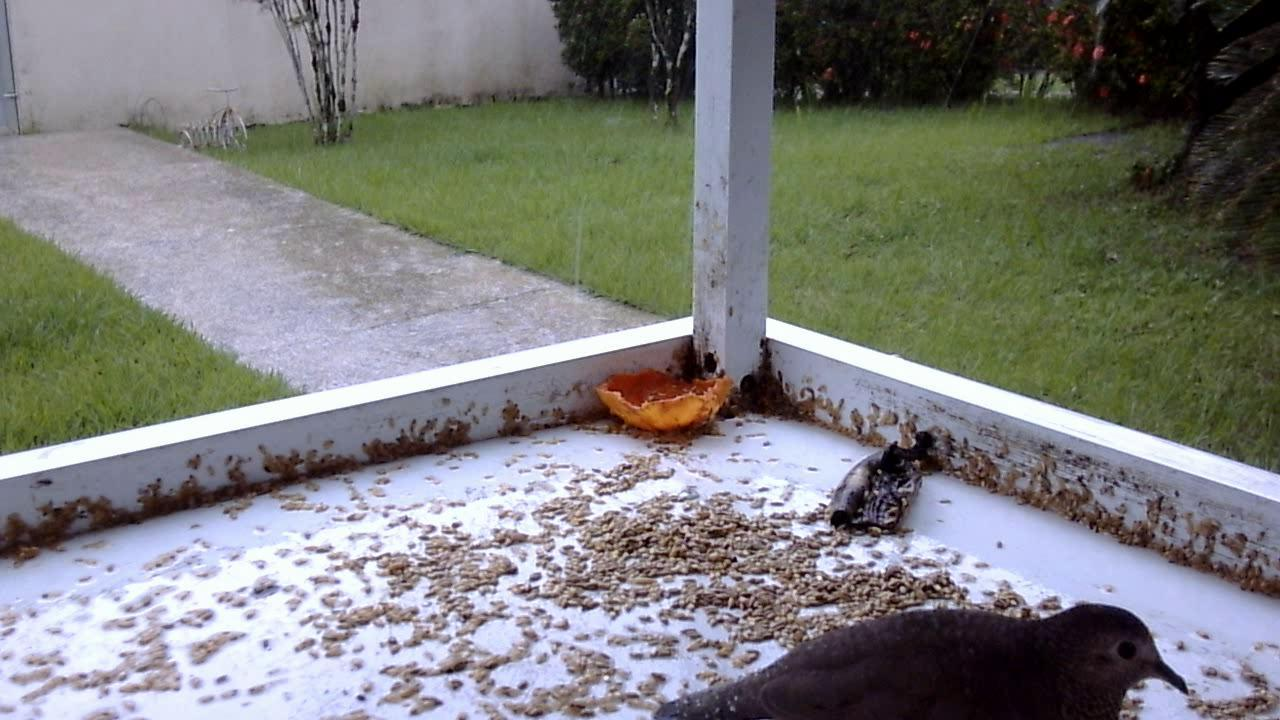rolinha: (652, 584, 1198, 716)
